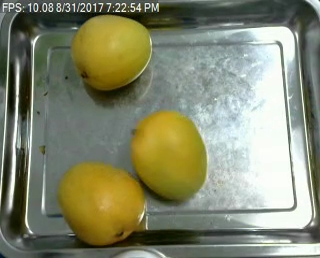Mango: (55, 159, 143, 245), (132, 110, 209, 199), (68, 15, 150, 87)
